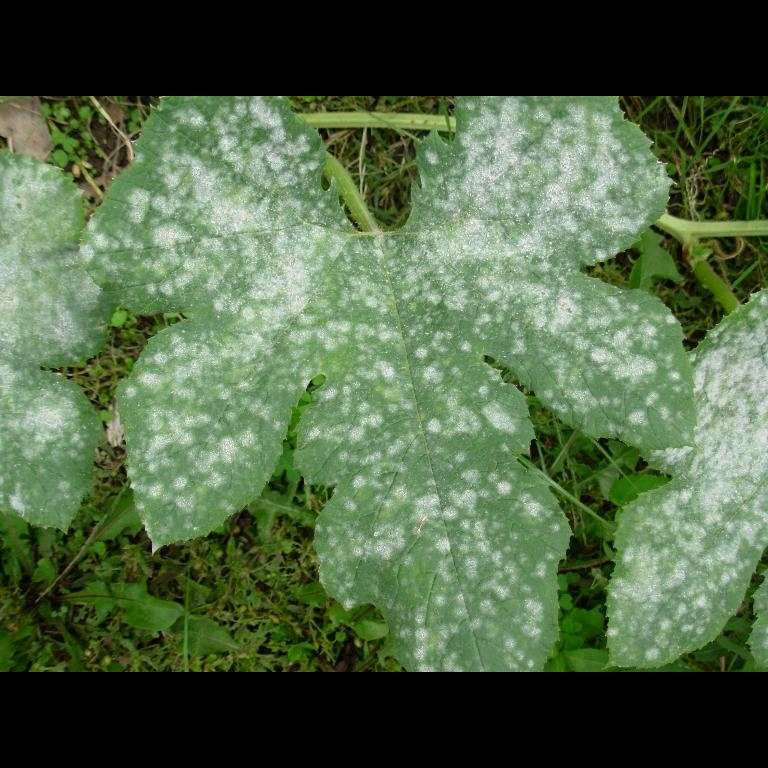powdery-mildew: (330, 320, 480, 478), (156, 159, 316, 303), (390, 521, 558, 651), (481, 104, 623, 232), (143, 354, 257, 488)
